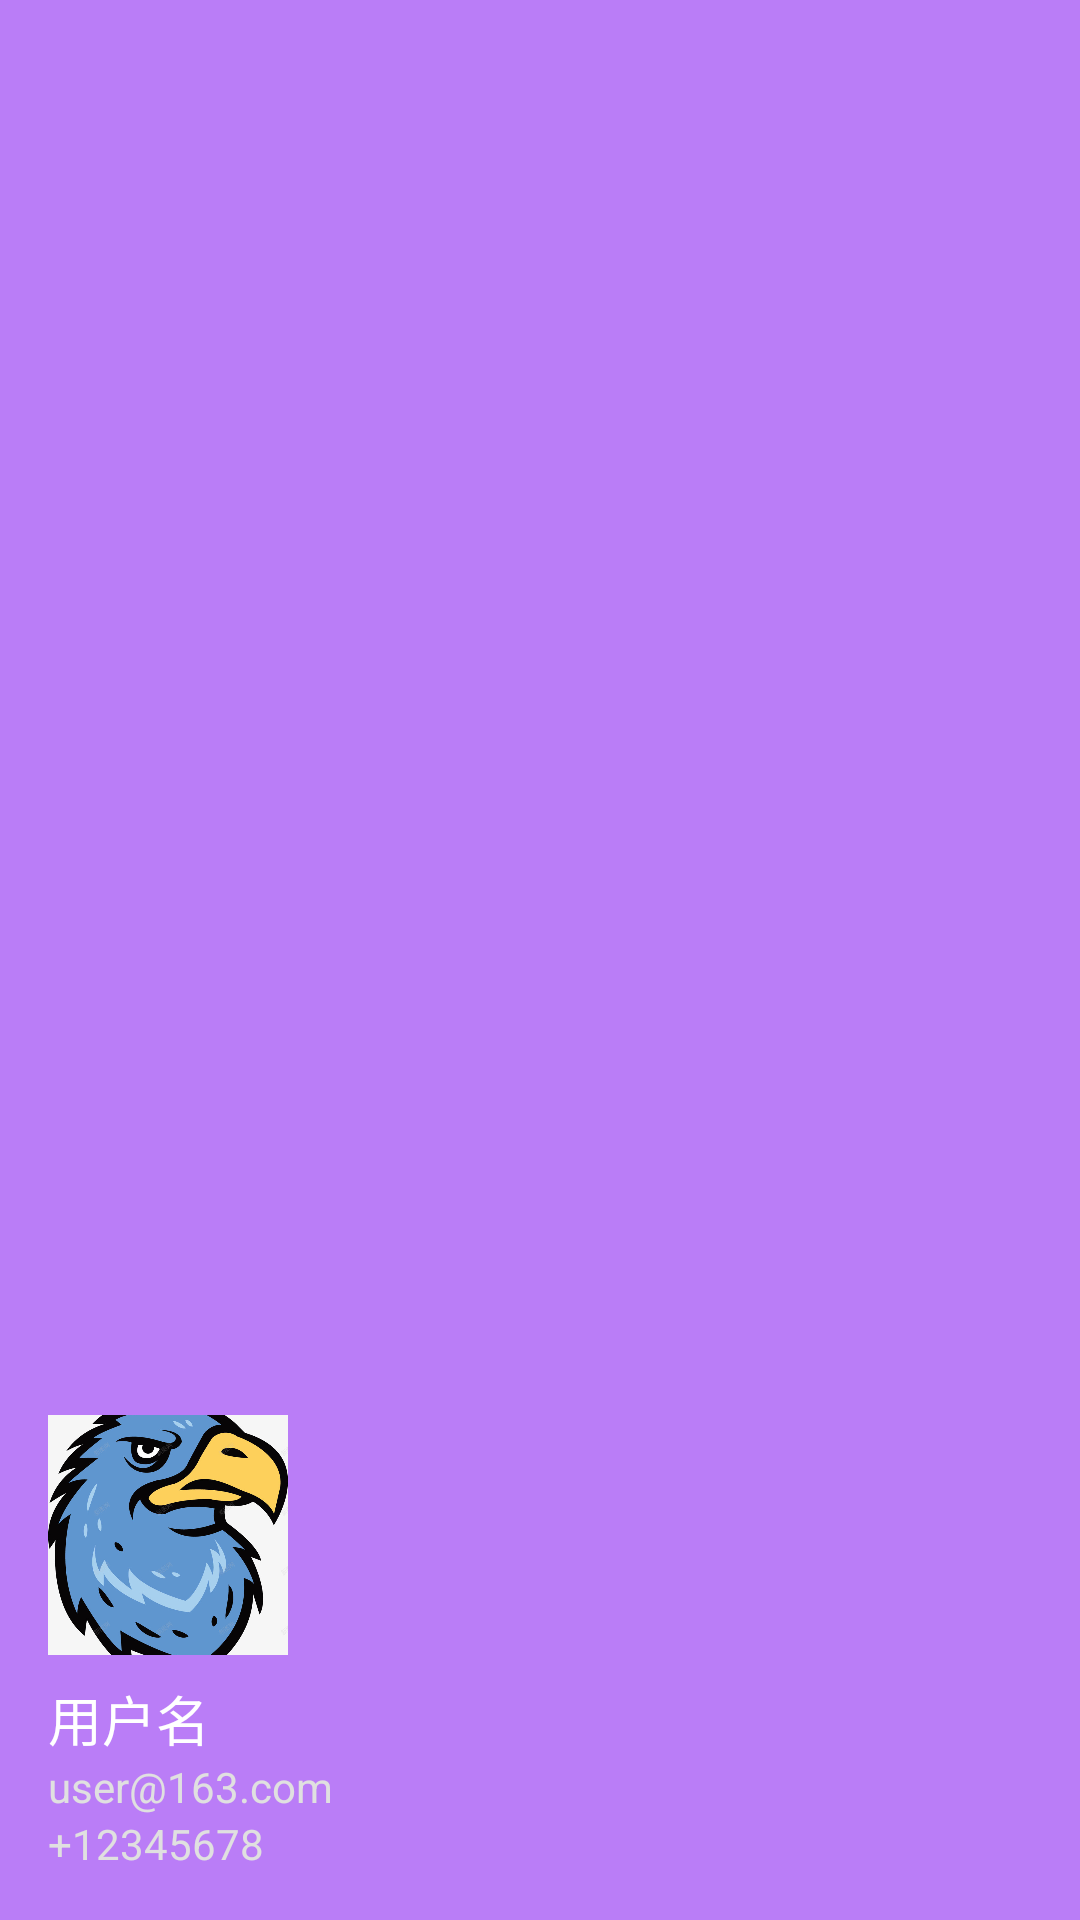

Icons on this 1080px×1920px Android screen, each with its box as {"x1": x1, "y1": y1, "x2": x2, "y2": y2}:
eagle: {"x1": 48, "y1": 1415, "x2": 288, "y2": 1655}
